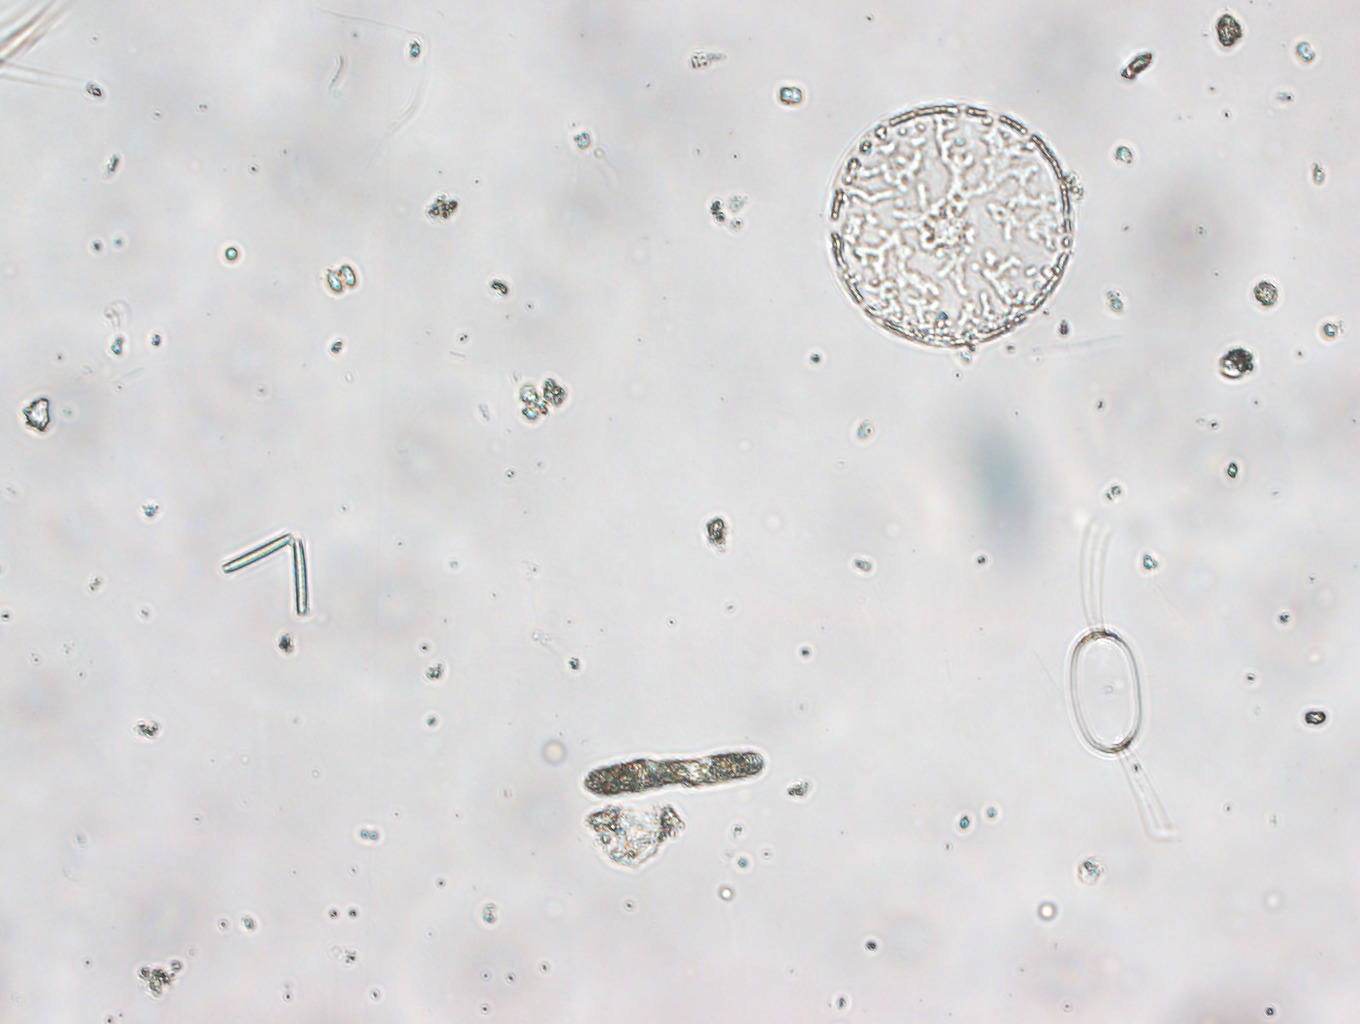coscinodiscus: (815, 100, 1089, 355)
thalassionema nitzschioides: (209, 504, 329, 621)
